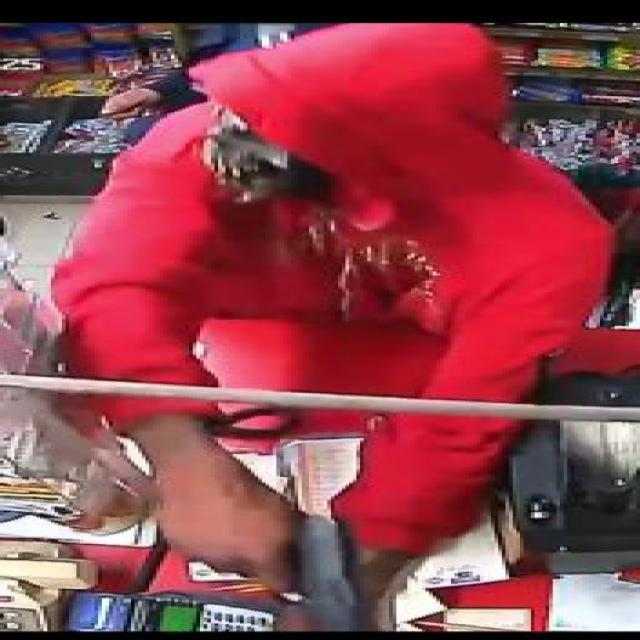weapon: (270, 510, 360, 631)
